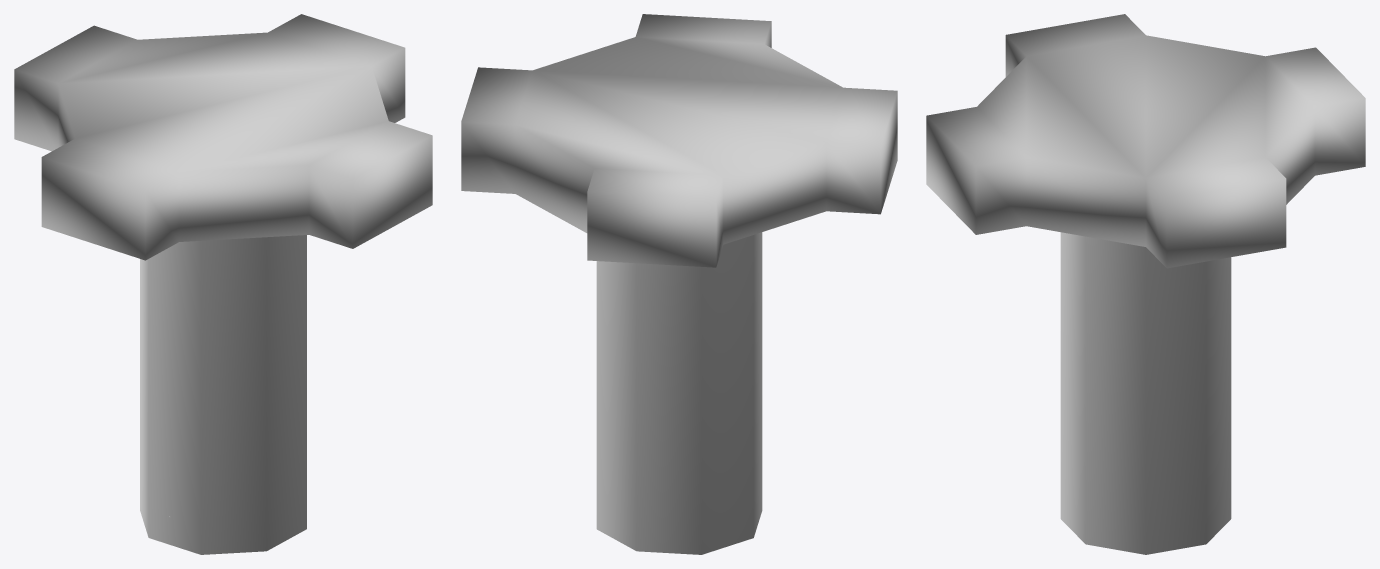
Rendered from sprinkler.glb.
3 renders of one model, left to right at view 1: azimuth 30°, elevation 25°; view 2: azimuth 150°, elevation 25°; view 3: azimuth 270°, elevation 25°, orthographic.
Parts seen in each view (by area): view 1: Cylinder; view 2: Cylinder; view 3: Cylinder.
Part boxes in pixels (box(x1,y1,x2,y2)): Cylinder: box(14, 14, 432, 554); Cylinder: box(461, 14, 897, 554); Cylinder: box(926, 14, 1365, 554).
Size of the model in its own units: 0.0672 by 0.0696 by 0.0672.
1 material, 1 textured.
